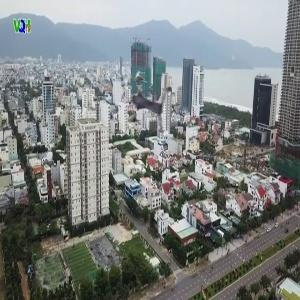drone: (107, 66, 184, 143)
